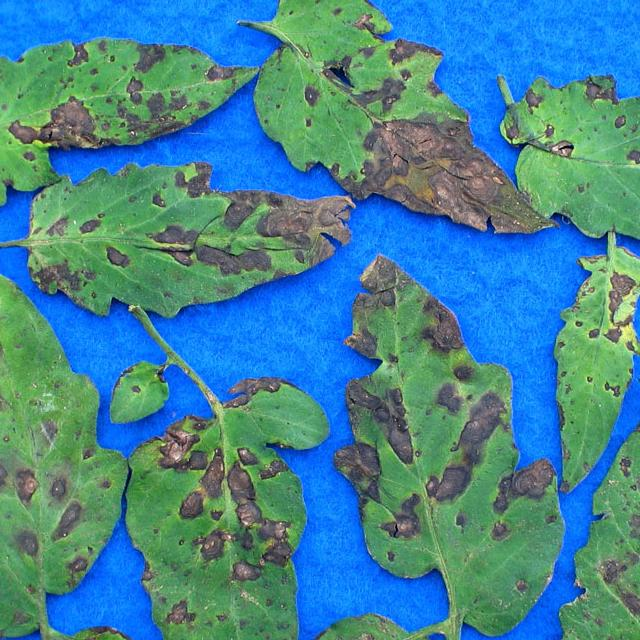Tomato Early blight leaf: (338, 260, 558, 640), (252, 0, 562, 237), (25, 164, 368, 319), (135, 386, 328, 640), (0, 243, 116, 640), (0, 36, 253, 194), (513, 346, 640, 640), (552, 237, 640, 494), (492, 97, 640, 240), (60, 620, 166, 640)
